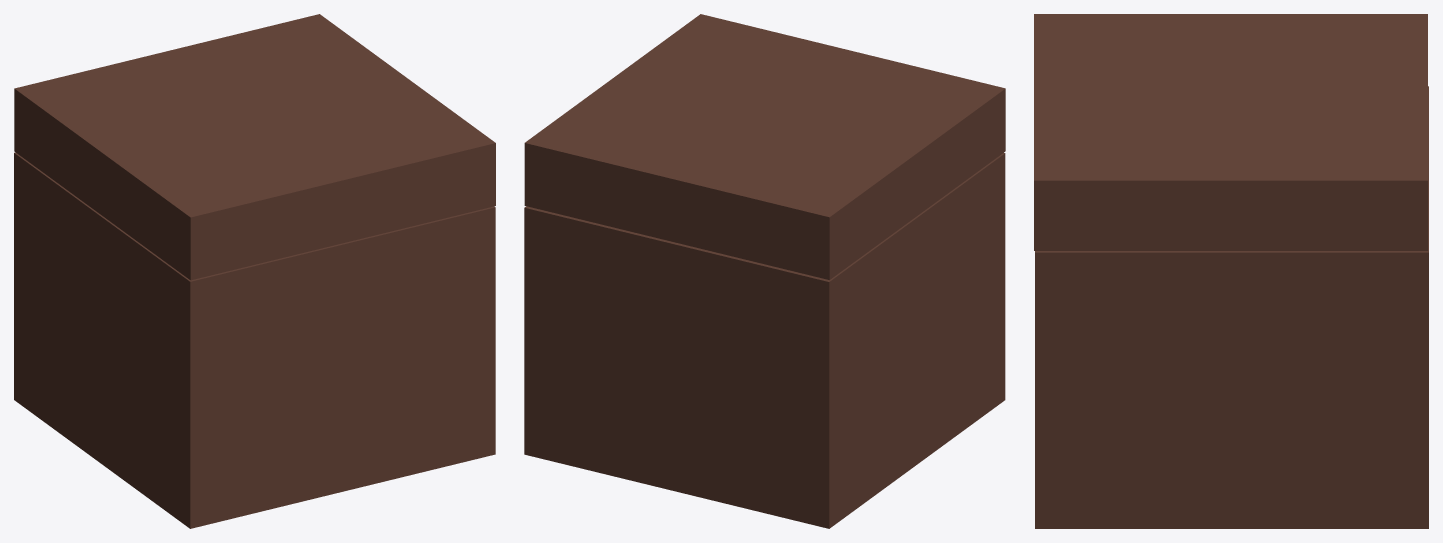
3 views of the same model, side by side, from view 1: azimuth 30°, elevation 25°; view 2: azimuth 150°, elevation 25°; view 3: azimuth 270°, elevation 25° (orthographic). The views are drawn at different scales.
Visible parts, largest first — view 1: pCube22; view 2: pCube22; view 3: pCube22.
Part boxes in pixels (<box>): pCube22: <box>14,14,495,528</box>; pCube22: <box>524,14,1005,528</box>; pCube22: <box>1034,14,1428,528</box>.
Size of the model in its own units: 3.5 by 3.41 by 3.51.
